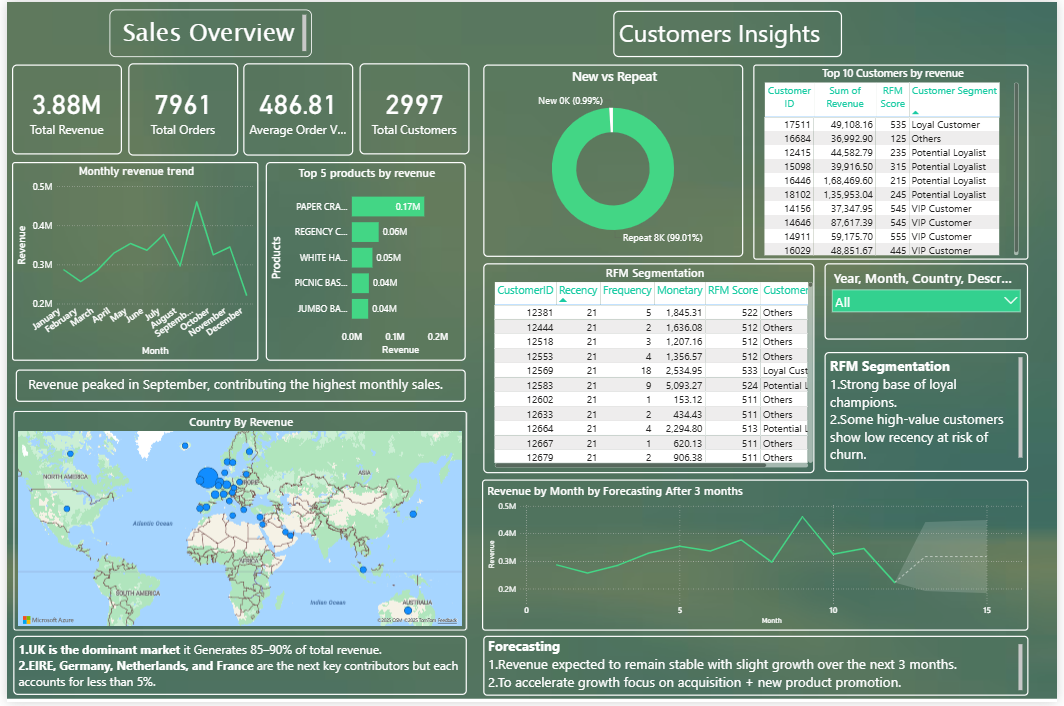

The dashboard page shown, as its layout file describes it:
{"tool":"powerbi","page":{"name":"Uk Online Retail","canvas":[2100,1400],"ordinal":0},"visuals":[{"type":"card","fields":{"Values":["data.Total Revenue"]},"box":[10,125,220,180],"z":0},{"type":"textbox","box":[205,15,405,95],"z":1000},{"type":"card","fields":{"Values":["data.Total Orders"]},"box":[242.5,122.5,220,185],"z":2000},{"type":"card","fields":{"Values":["data.Average Order Value"]},"box":[472.5,122.5,220,185],"z":3000},{"type":"card","fields":{"Values":["data.Total Customers"]},"box":[705,122.5,220,182.5],"z":4000},{"type":"lineChart","title":"Monthly revenue trend","fields":{"Y":["Sum(data.Revenue)"],"Category":["data.InvoiceDate.Variation.Date Hierarchy.Month"]},"box":[10,320,492.5,397.5],"z":5000},{"type":"clusteredBarChart","title":"Top 5 products by revenue","fields":{"Category":["data.Description"],"Y":["Sum(data.Revenue)"]},"box":[517.5,320,400,397.5],"z":6000},{"type":"azureMap","title":"Country By Revenue","fields":{"Category":["data.Country"],"Size":["Sum(data.Revenue)"]},"box":[12.5,817.5,907.5,440],"z":7000},{"type":"tableEx","title":"RFM Segmentation","fields":{"Values":["data.CustomerID","data.Recency","data.Frequency","data.Monetary","data.RFM Score","data.Customer Segment"]},"box":[952.5,521.2,662.5,420],"z":8000},{"type":"donutChart","title":"New vs Repeat","fields":{"Y":["data.Customer Orders"],"Category":["data.CustomerType"]},"box":[952.5,125,520,385],"z":9000},{"type":"tableEx","title":"Top 10 Customers by revenue","fields":{"Values":["data.CustomerID","Sum(data.Revenue)","data.RFM Score","data.Customer Segment"]},"box":[1492.5,125,550,390],"z":10000},{"type":"lineChart","title":"Revenue by Month by Forecasting After 3 months","fields":{"Y":["Sum(data.Revenue)"],"Category":["data.Month"]},"box":[950,955,1092.5,302.5],"z":11000},{"type":"textbox","box":[1212.5,17.5,457.5,92.5],"z":12000},{"type":"slicer","fields":{"Values":["data.Year","data.Month","data.Country","data.Description"]},"box":[1635,522.5,407.5,152.5],"z":13000},{"type":"textbox","box":[17.5,735,900,65],"z":14000},{"type":"textbox","box":[12.5,1267.5,907.5,118.8],"z":15000},{"type":"textbox","box":[952.5,1267.5,1090,120],"z":16000},{"type":"textbox","box":[1635,700,407.5,240],"z":17000}]}

Visuals, with their boxes in screenshot pixels (x1, y1, x2, y2), scaled from the page's 2100x1400 canvas onto the 1064x706 screenshot:
card - data.Total Revenue: <region>5, 63, 117, 154</region>
textbox: <region>104, 8, 309, 55</region>
card - data.Total Orders: <region>123, 62, 234, 155</region>
card - data.Average Order Value: <region>239, 62, 351, 155</region>
card - data.Total Customers: <region>357, 62, 469, 154</region>
"Monthly revenue trend" lineChart: <region>5, 161, 255, 362</region>
"Top 5 products by revenue" clusteredBarChart: <region>262, 161, 465, 362</region>
"Country By Revenue" azureMap: <region>6, 412, 466, 634</region>
"RFM Segmentation" tableEx: <region>483, 263, 818, 475</region>
"New vs Repeat" donutChart: <region>483, 63, 746, 257</region>
"Top 10 Customers by revenue" tableEx: <region>756, 63, 1035, 260</region>
"Revenue by Month by Forecasting After 3 months" lineChart: <region>481, 482, 1035, 634</region>
textbox: <region>614, 9, 846, 55</region>
slicer - data.Year x data.Month: <region>828, 263, 1035, 340</region>
textbox: <region>9, 371, 465, 403</region>
textbox: <region>6, 639, 466, 699</region>
textbox: <region>483, 639, 1035, 700</region>
textbox: <region>828, 353, 1035, 474</region>
